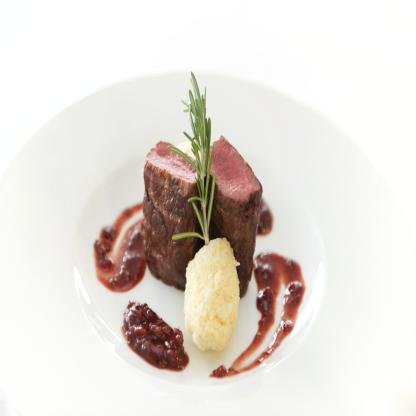Carne: (136, 140, 194, 284), (218, 138, 263, 286)
